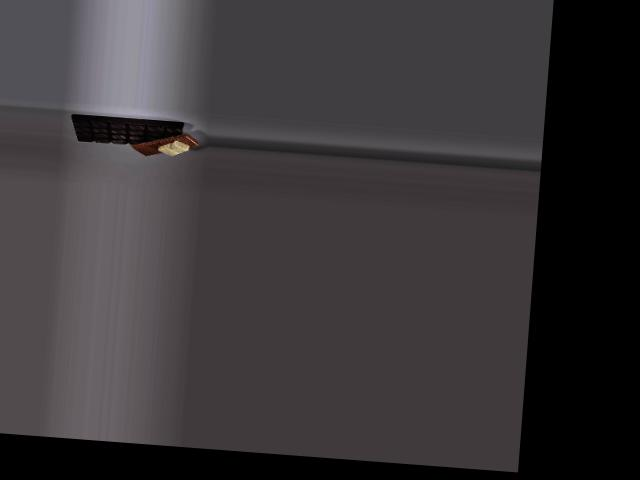chocolate: (68, 109, 191, 153)
